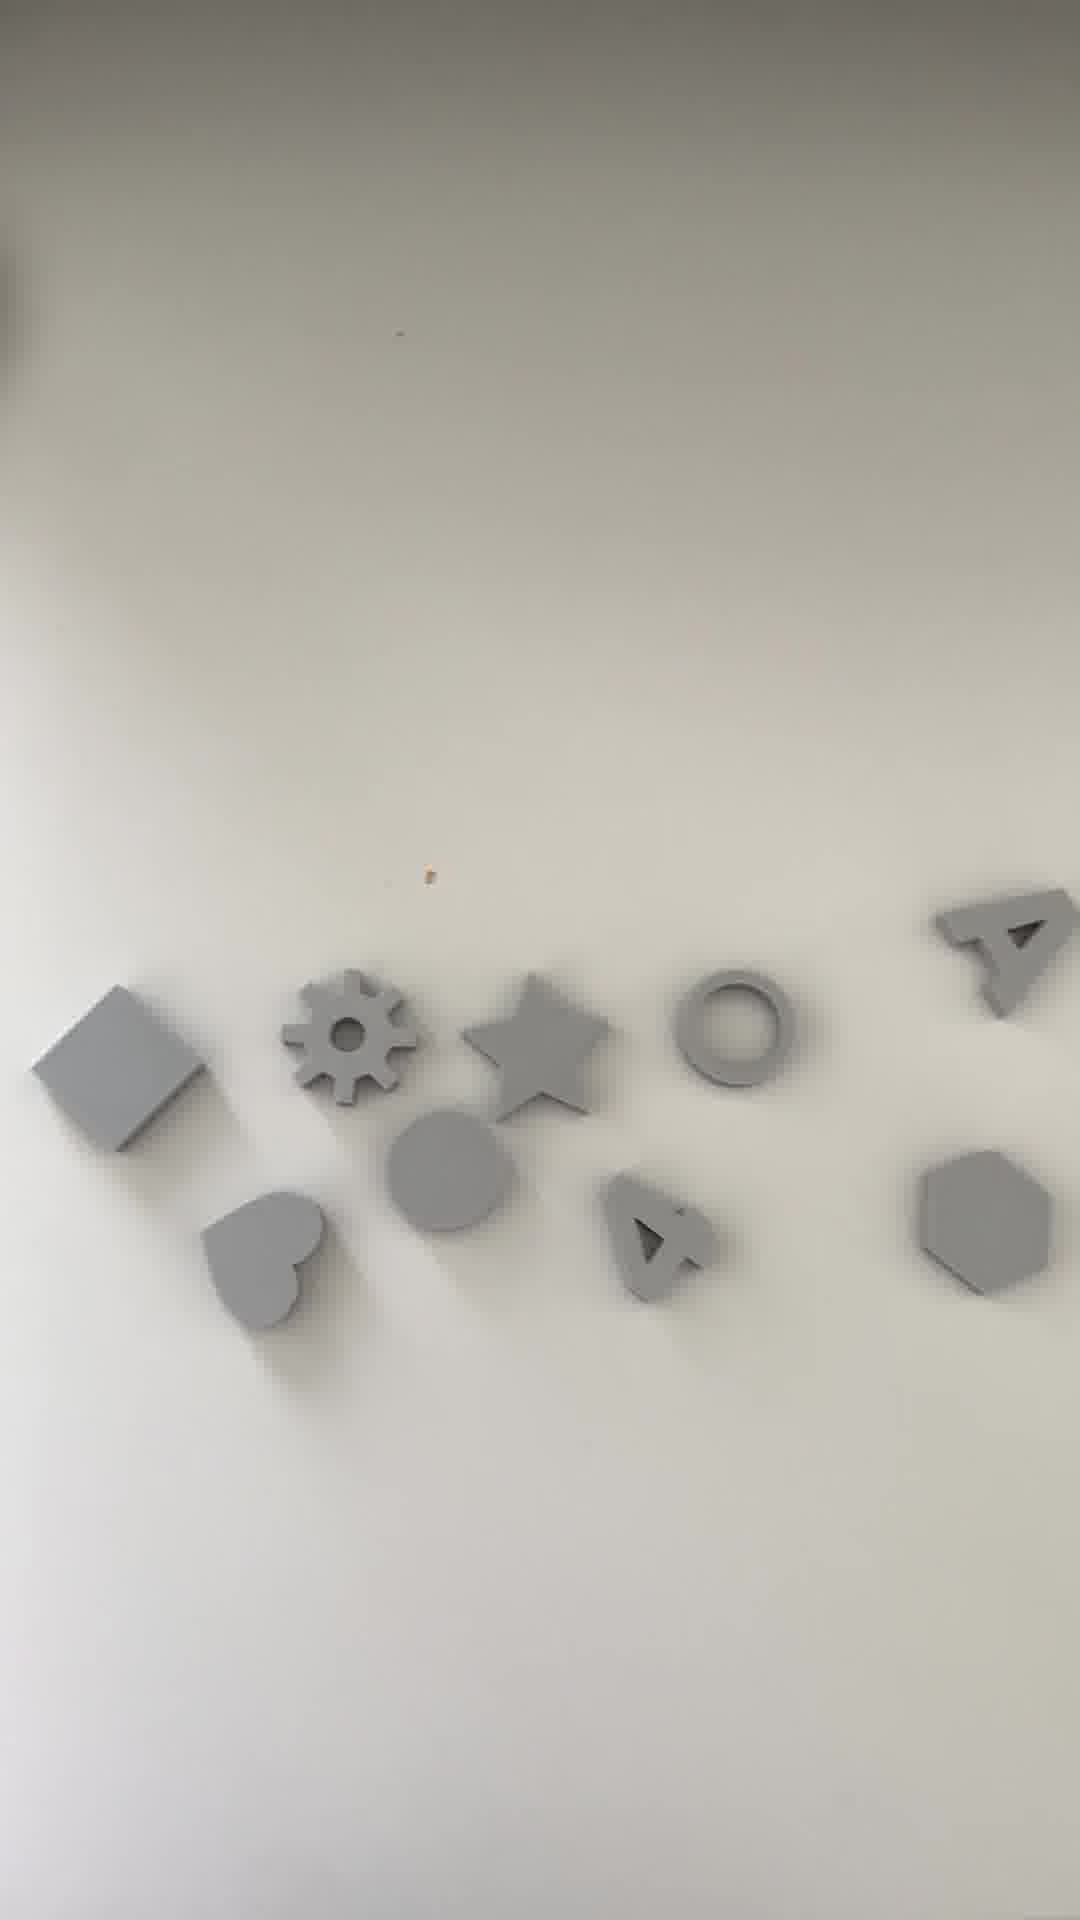Gray A-letter: (943, 885, 1080, 1015)
Gray circle: (392, 1108, 513, 1234)
Gray four: (592, 1170, 733, 1309)
Gray gear: (284, 971, 415, 1116)
Gray heart: (208, 1183, 323, 1346)
Gray hexagon: (911, 1145, 1056, 1304)
Gray ring: (676, 967, 790, 1091)
Gray square: (22, 989, 196, 1153)
Gray star: (455, 973, 618, 1127)
